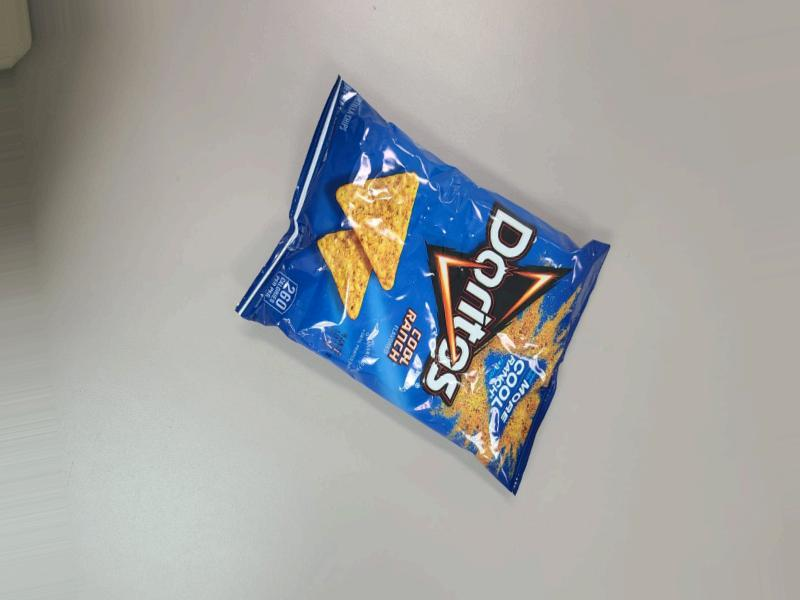doritos: (230, 73, 598, 508)
